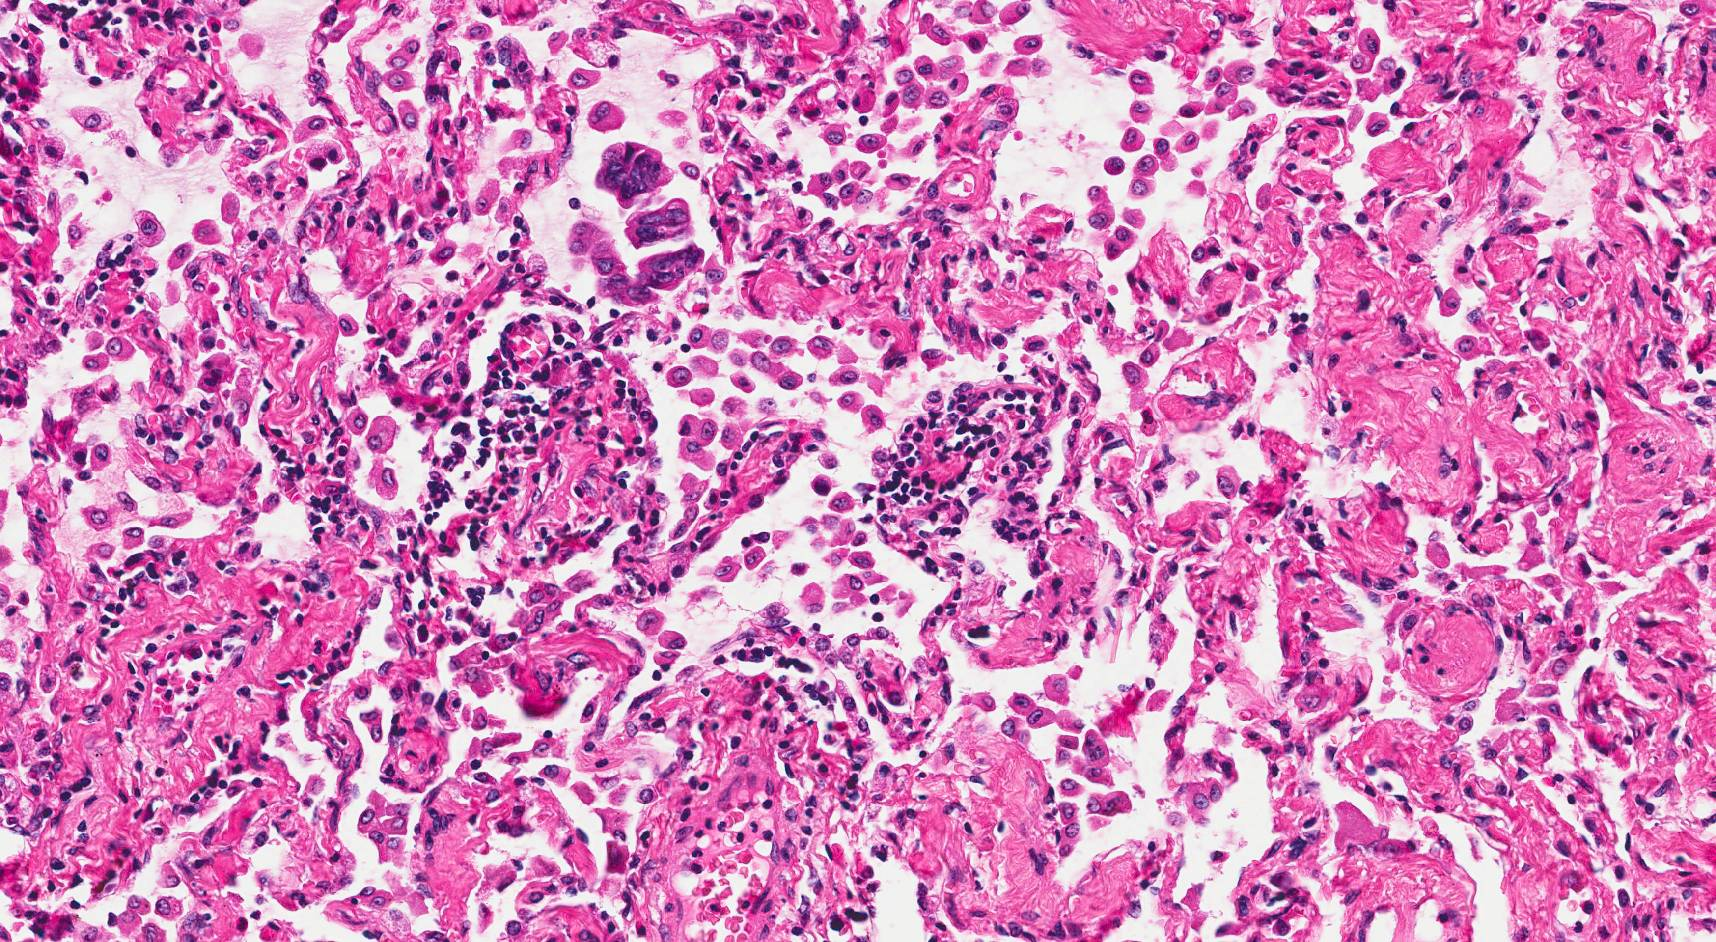stas: (565, 223, 705, 307), (594, 145, 675, 210), (625, 196, 695, 250)
